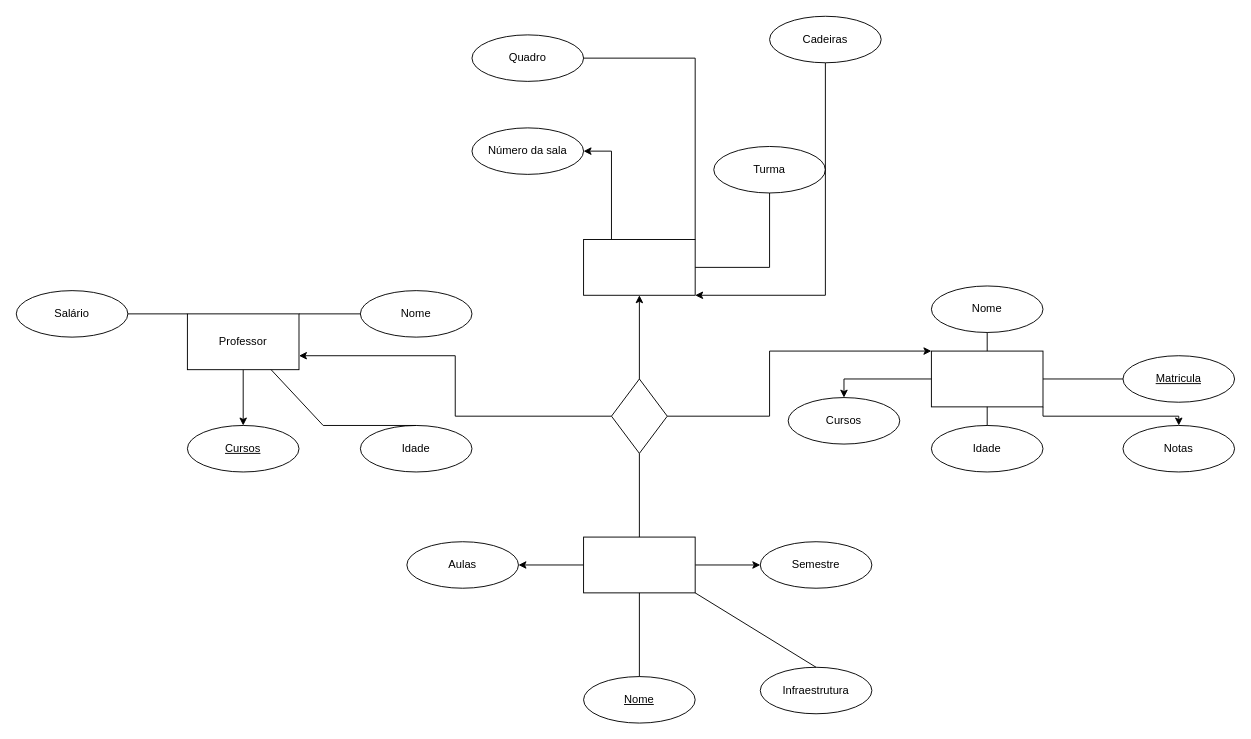
This 1251x739 diagram has some shape labels left out. The shapes that lost their labels are listed below. From the top down, each one's box as (x1, y1, x2, y2) in pixels, then its label:
(583, 239, 695, 295): Salas
(930, 350, 1043, 407): Aluno
(611, 378, 667, 453): Possui
(583, 536, 695, 593): Universidade
